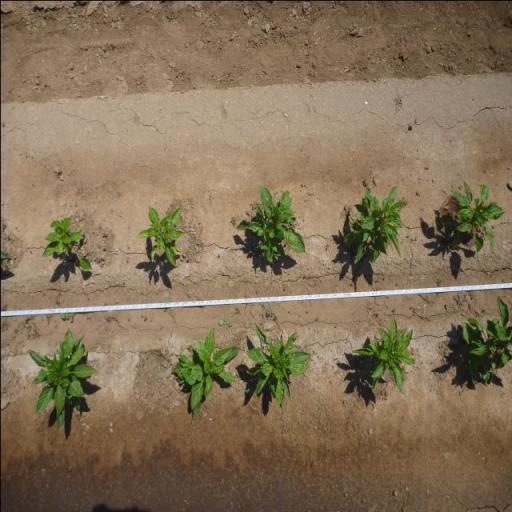plant: (25, 328, 98, 432), (169, 326, 240, 425), (235, 184, 307, 267), (246, 320, 311, 407), (453, 293, 512, 387), (434, 178, 504, 255), (349, 317, 417, 394), (343, 182, 404, 267), (133, 204, 185, 269), (42, 213, 92, 274)
weed: (218, 313, 232, 327), (59, 312, 75, 322), (186, 290, 192, 302), (44, 314, 51, 324), (229, 216, 236, 226), (234, 305, 241, 314), (436, 276, 443, 284), (52, 318, 57, 328), (412, 306, 417, 316), (140, 313, 146, 321), (26, 322, 31, 330), (163, 298, 173, 302), (54, 300, 60, 306), (324, 242, 330, 248), (245, 388, 250, 394), (216, 252, 220, 258)
